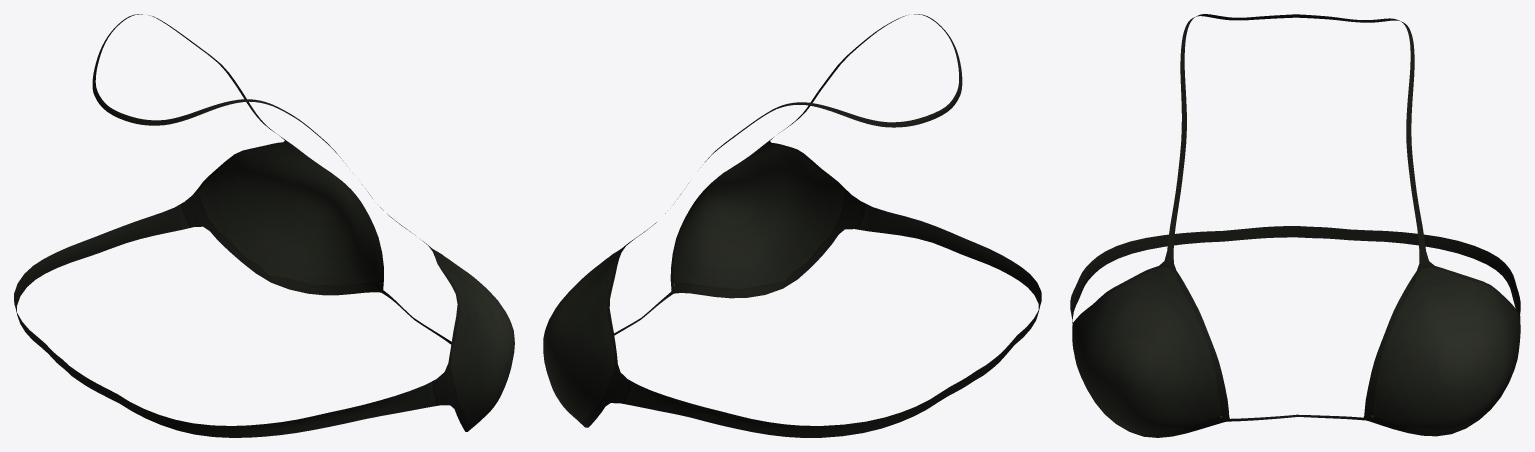
3 views of the same model, side by side, from view 1: azimuth 30°, elevation 25°; view 2: azimuth 150°, elevation 25°; view 3: azimuth 270°, elevation 25° (orthographic). The views are drawn at different scales.
Visible parts, largest first — view 1: Bikin_Top; view 2: Bikin_Top; view 3: Bikin_Top.
Boxes of the visible parts, <box> form: Bikin_Top: <box>14,14,514,437</box>; Bikin_Top: <box>543,14,1041,437</box>; Bikin_Top: <box>1070,14,1520,437</box>.
Bounding box in the file's own units: 0.6921 × 0.6433 × 0.8118.
1 material, 1 textured.
